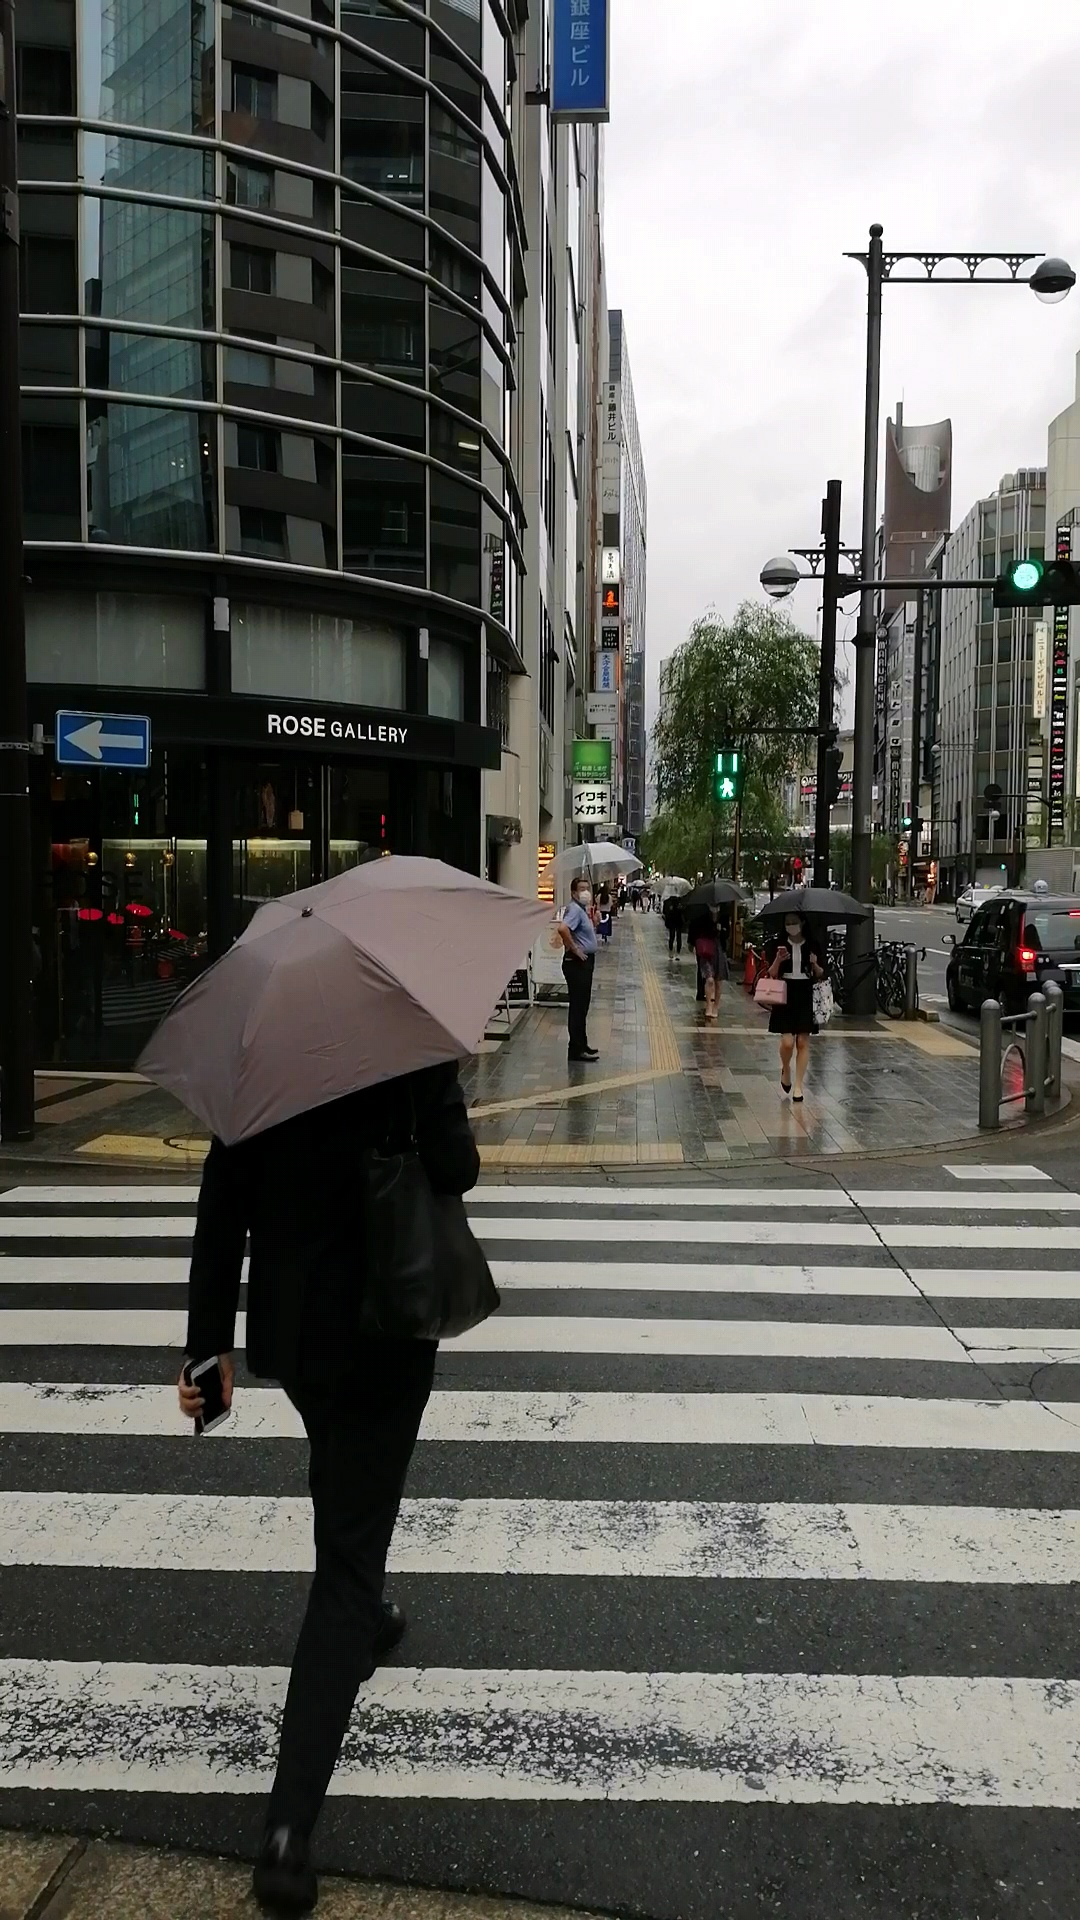green: (711, 746, 742, 800)
